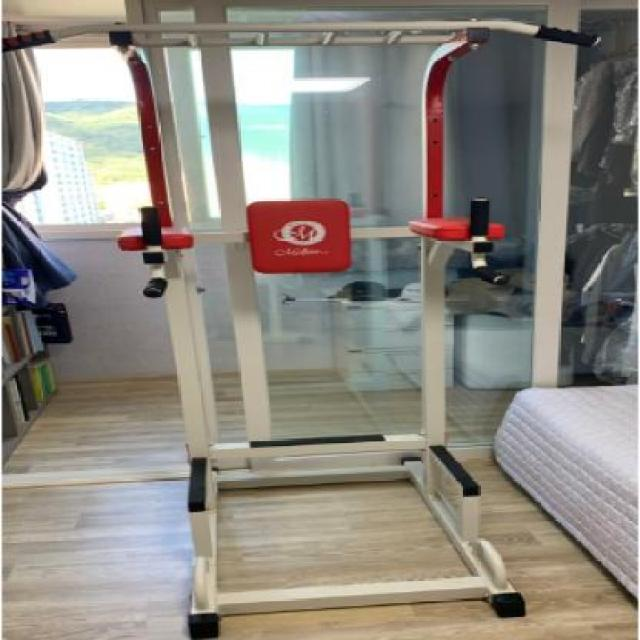chinning dipping: (0, 21, 597, 638)
